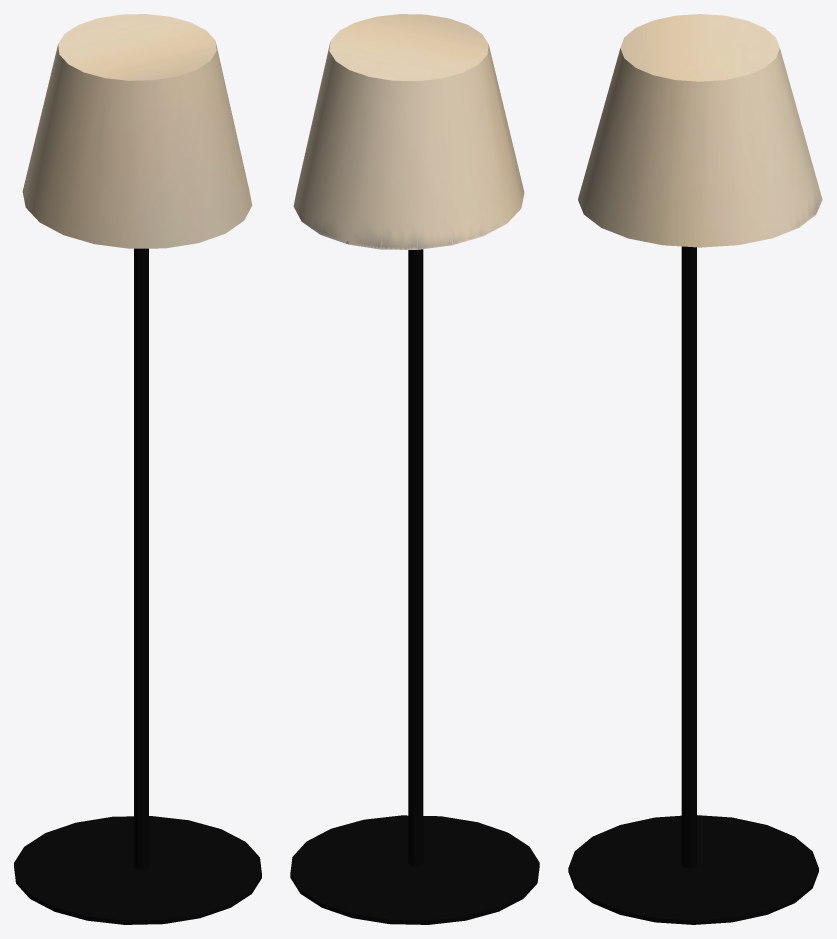
File: lamp.fbx
3 views of the same model, side by side, from view 1: azimuth 30°, elevation 25°; view 2: azimuth 150°, elevation 25°; view 3: azimuth 270°, elevation 25° (orthographic).
Visible parts, largest first — view 1: polySurface1, polySurface2; view 2: polySurface1, polySurface2; view 3: polySurface1, polySurface2.
Boxes of the visible parts, x1=… form: polySurface1: x1=22, y1=14, x2=252, y2=248; polySurface2: x1=14, y1=248, x2=261, y2=924; polySurface1: x1=293, y1=14, x2=524, y2=249; polySurface2: x1=290, y1=249, x2=539, y2=924; polySurface1: x1=578, y1=14, x2=822, y2=247; polySurface2: x1=568, y1=246, x2=818, y2=924.
Bounding box in the file's own units: 9.62 × 34.99 × 9.76.
1 material, 1 textured.
